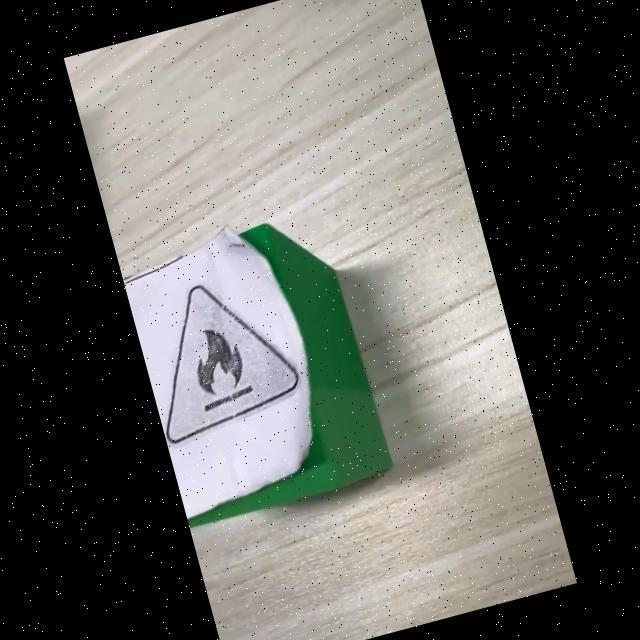Fire: (166, 285, 298, 443)
